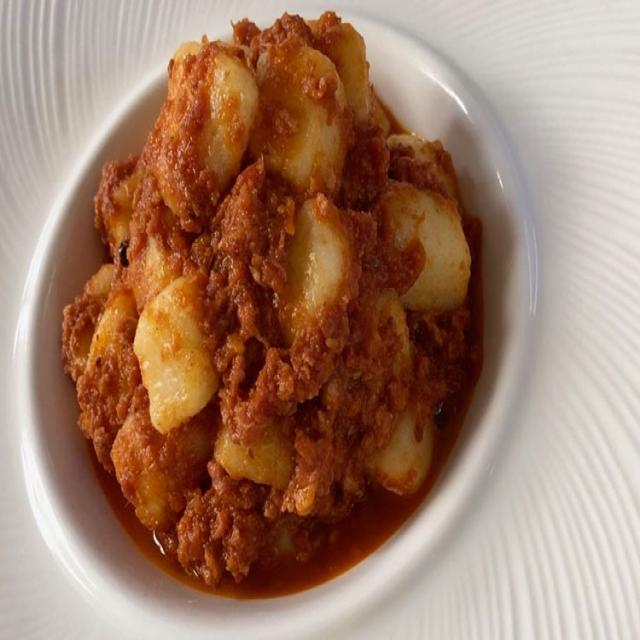Pasta al ragu: (36, 14, 516, 574)
